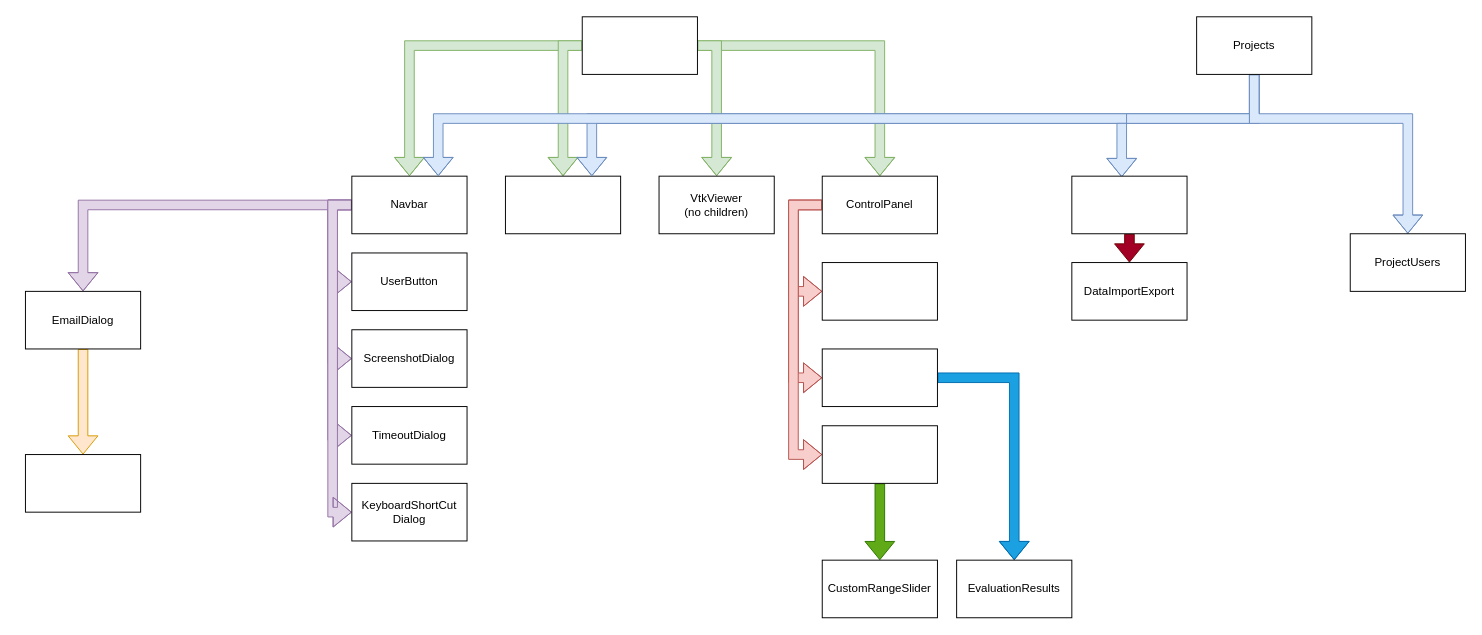
This 1482x635 diagram has some shape labels left out. Each missing label, with the box of its shape:
DecisionButtons: (821, 348, 937, 407)
EmailRecipientCombobox: (24, 454, 141, 512)
ExperimentsView: (504, 175, 621, 234)
Frame: (581, 16, 697, 74)
ProjectSettings: (1071, 175, 1187, 234)
ScanDecision: (821, 262, 937, 320)
WindowWidget: (821, 425, 937, 483)
